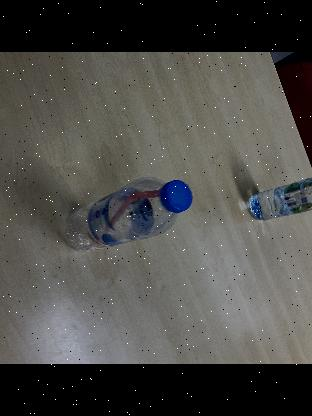Plastic Bottle: (61, 176, 193, 252), (245, 175, 312, 221)
